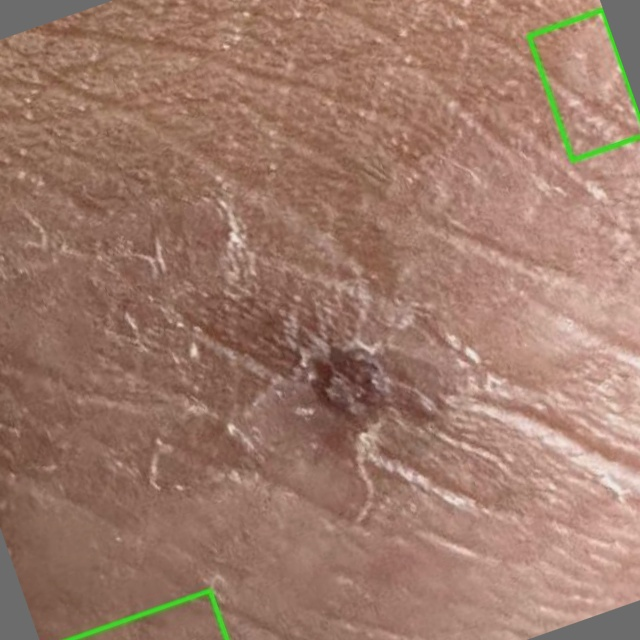Scabies: (528, 10, 639, 160)
